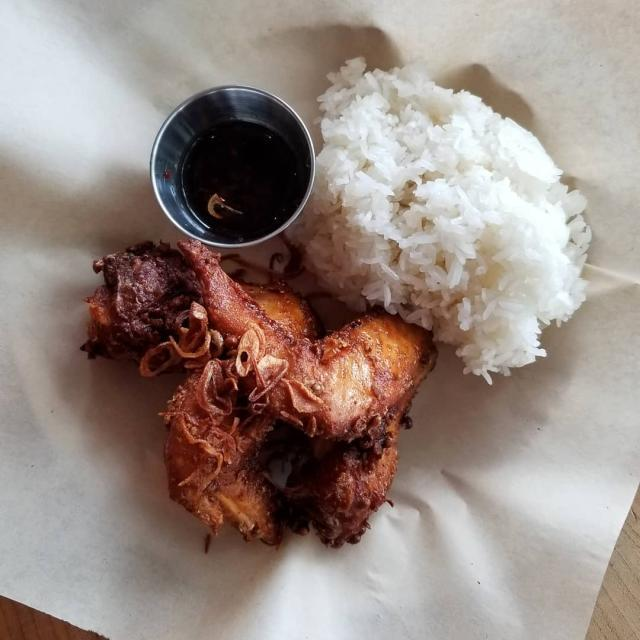cac loai rau cu: (143, 311, 288, 433)
thit ga: (63, 234, 433, 572)
xoi: (317, 52, 593, 388)
xoi ga chien: (34, 58, 593, 548)
